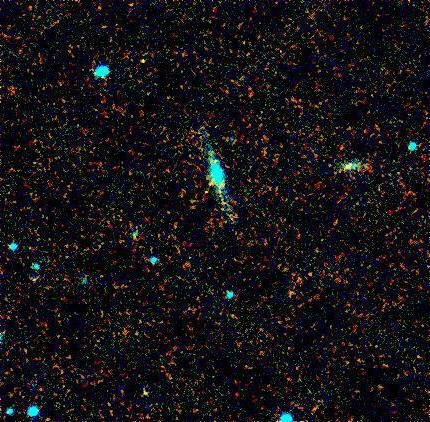star: (192, 180, 222, 210)
